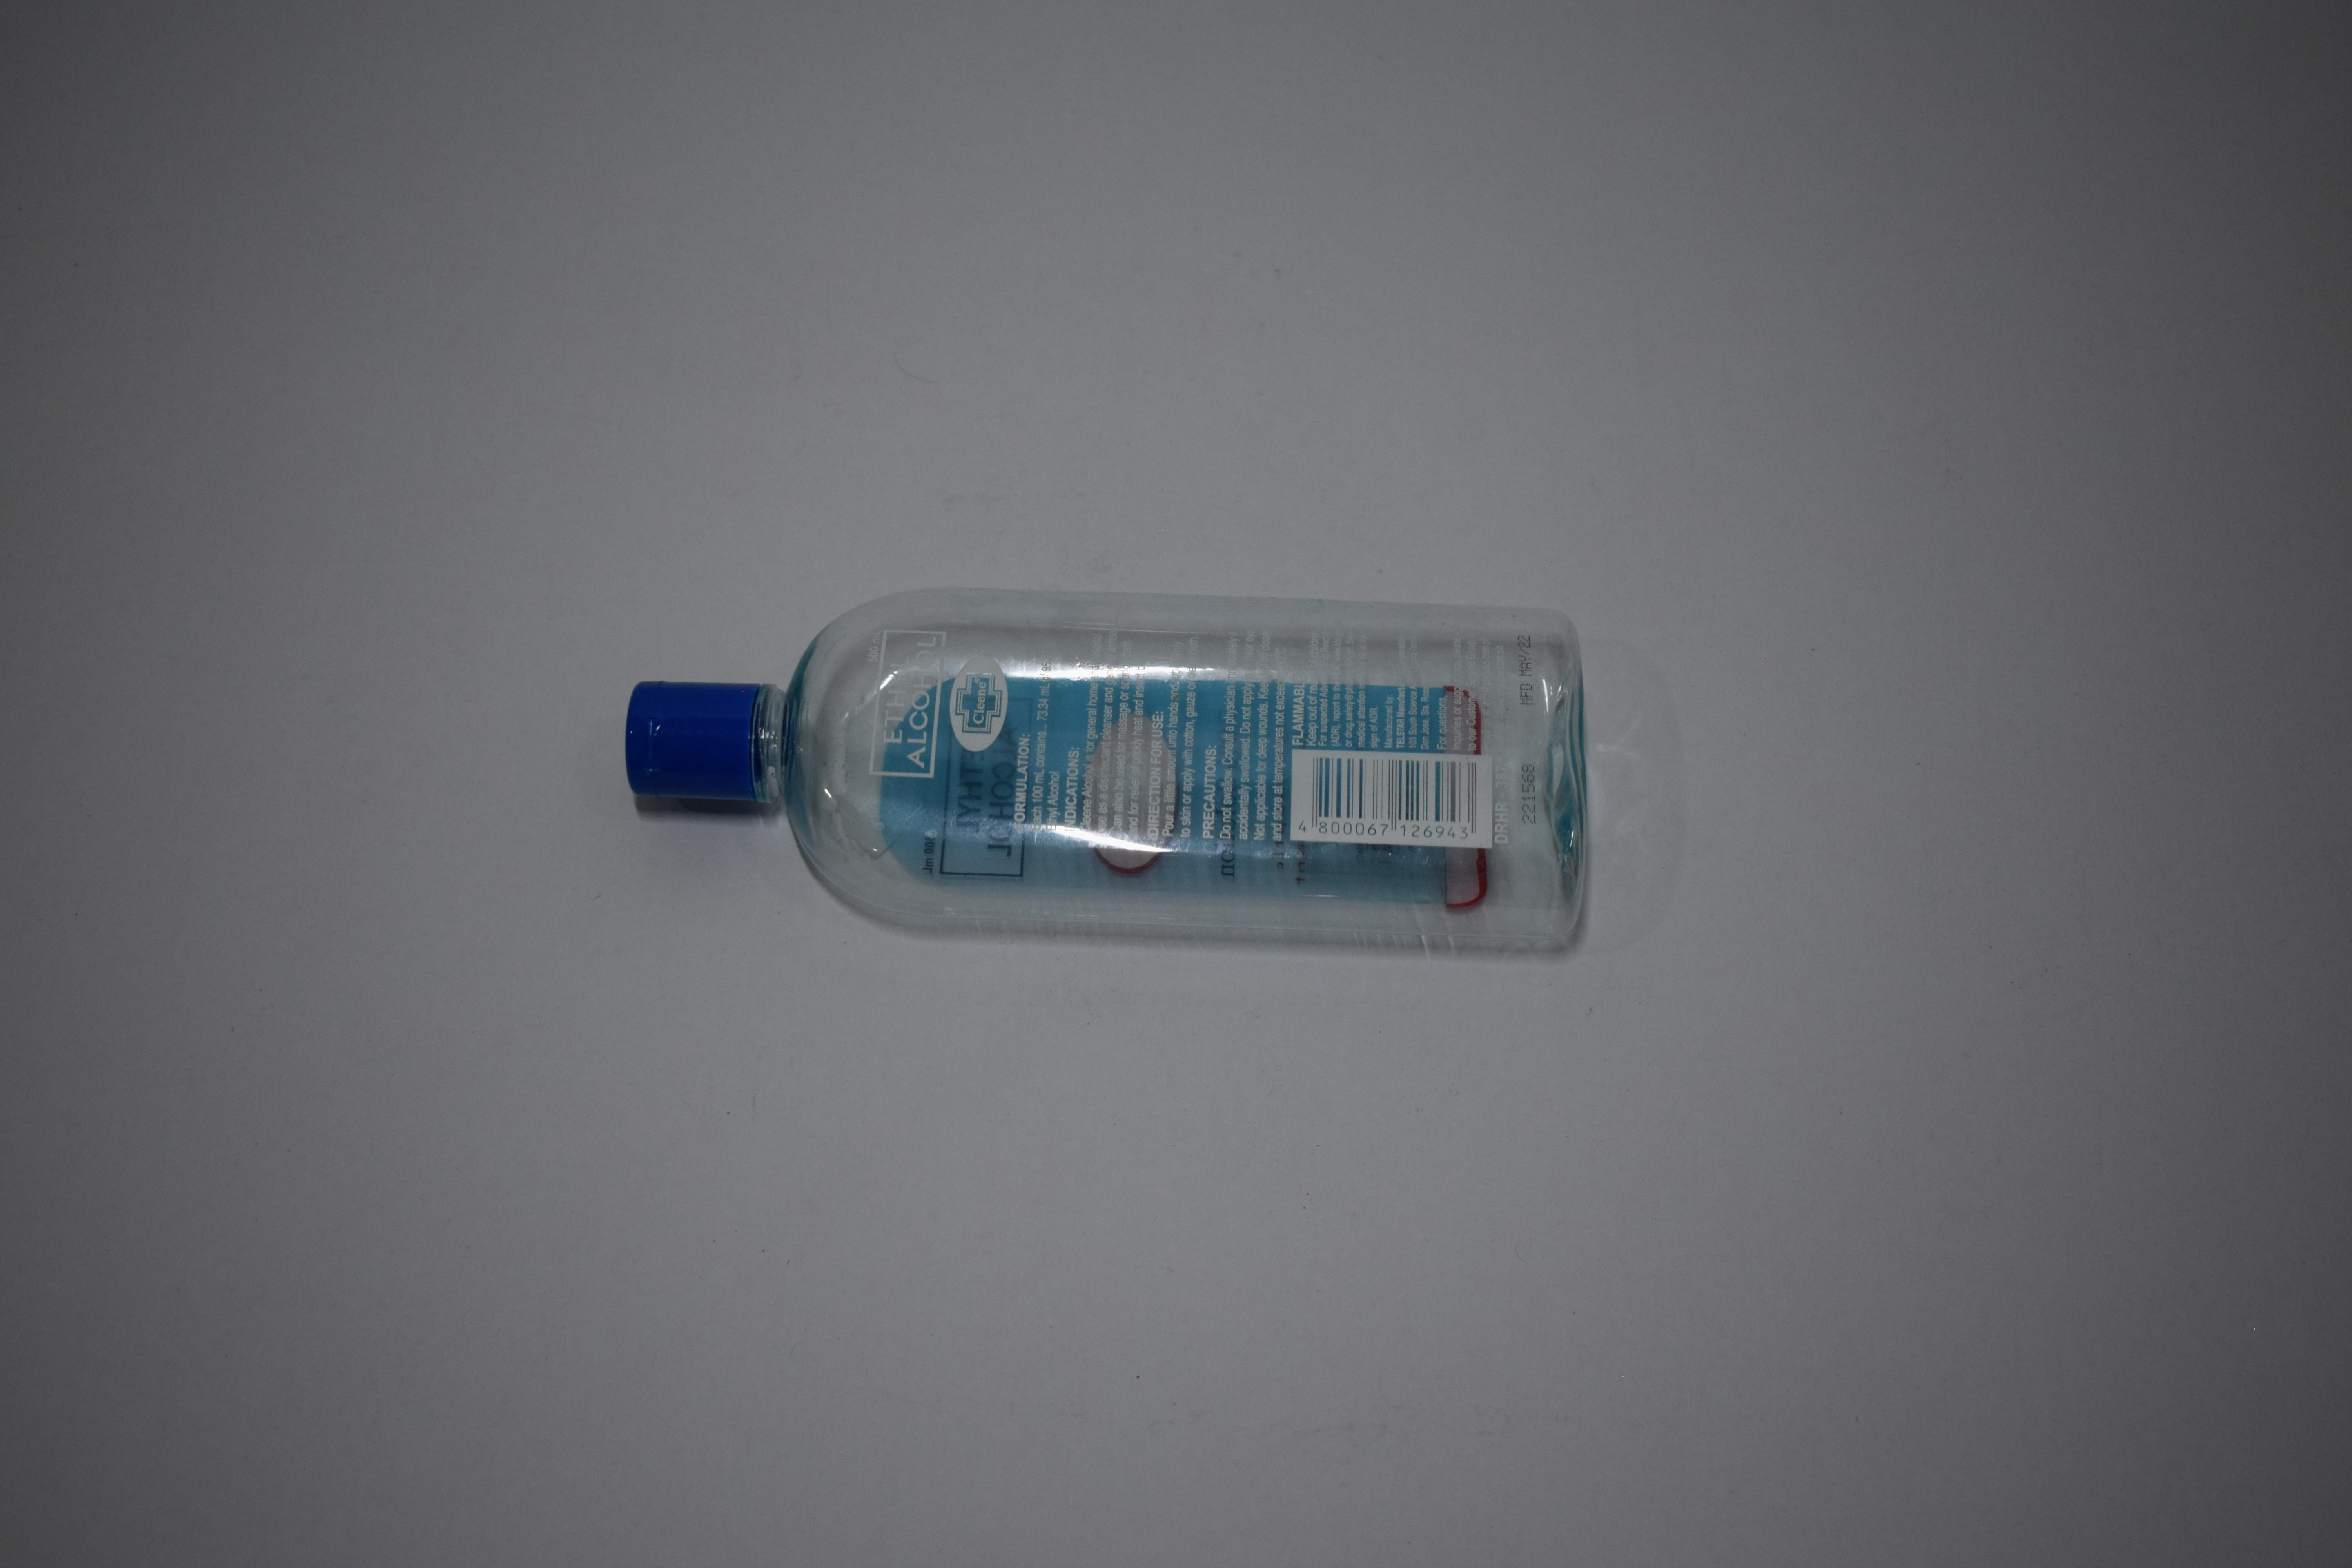bottle: (616, 616, 1600, 933)
